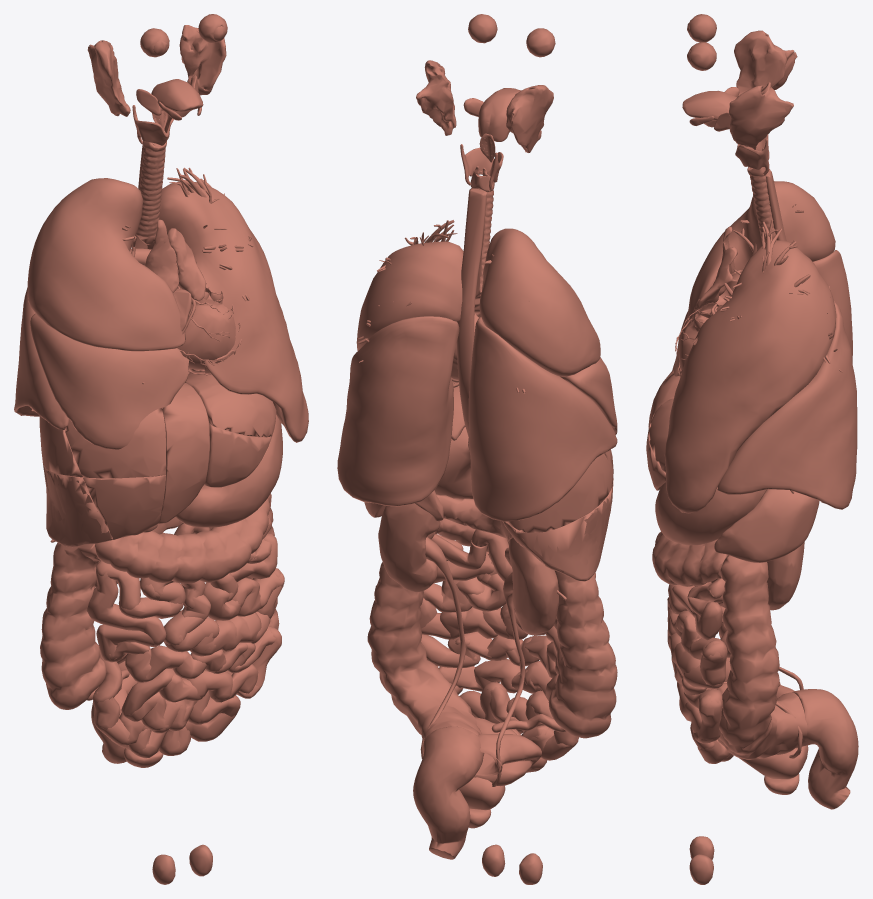
Rendered from organs.glb.
The picture shows the model from 3 angles, left to right: view 1: azimuth 30°, elevation 25°; view 2: azimuth 150°, elevation 25°; view 3: azimuth 270°, elevation 25°; orthographic projection.
Parts seen in each view (by area): view 1: liver, lung-upper-lobe-r, lung-upper-lobe-l, ileum, jejunum, lung-middle-lobe-r, ascending-colon, transverse-colon, stomach, heart, lung-lower-lobe-r, thymus (+12 smaller); view 2: lung-lower-lobe-r, lung-lower-lobe-l, lung-upper-lobe-r, ileum, descending-colon, ascending-colon, liver, lung-upper-lobe-l, jejunum, rectum, kidney-l, esophagus (+21 smaller); view 3: lung-upper-lobe-l, lung-lower-lobe-l, descending-colon, lung-upper-lobe-r, jejunum, rectum, spleen, stomach, ileum, transverse-colon, parotid-gland-l, parotid-gland-r (+16 smaller).
Boxes of the visible parts, bbox=[...] form: liver: bbox=[39, 371, 276, 547]; lung-upper-lobe-r: bbox=[27, 178, 185, 351]; lung-upper-lobe-l: bbox=[147, 181, 308, 442]; ileum: bbox=[93, 624, 281, 758]; jejunum: bbox=[87, 516, 284, 656]; lung-middle-lobe-r: bbox=[30, 313, 188, 449]; ascending-colon: bbox=[40, 543, 106, 709]; transverse-colon: bbox=[95, 494, 270, 583]; stomach: bbox=[175, 414, 282, 527]; heart: bbox=[144, 263, 241, 375]; lung-lower-lobe-r: bbox=[14, 287, 69, 429]; thymus: bbox=[145, 219, 206, 300]; lung-lower-lobe-r: bbox=[468, 316, 617, 521]; lung-lower-lobe-l: bbox=[337, 316, 459, 506]; lung-upper-lobe-r: bbox=[479, 228, 600, 376]; ileum: bbox=[421, 626, 578, 772]; descending-colon: bbox=[367, 532, 484, 755]; ascending-colon: bbox=[548, 570, 617, 738]; liver: bbox=[451, 381, 613, 581]; lung-upper-lobe-l: bbox=[356, 241, 463, 350]; jejunum: bbox=[419, 534, 557, 639]; rectum: bbox=[413, 726, 483, 859]; kidney-l: bbox=[378, 503, 440, 592]; esophagus: bbox=[456, 188, 487, 449]; lung-upper-lobe-l: bbox=[664, 240, 836, 513]; lung-lower-lobe-l: bbox=[716, 301, 857, 509]; descending-colon: bbox=[717, 555, 807, 759]; lung-upper-lobe-r: bbox=[687, 181, 835, 326]; jejunum: bbox=[667, 578, 727, 688]; rectum: bbox=[792, 689, 858, 809]; spleen: bbox=[714, 489, 819, 562]; stomach: bbox=[655, 482, 766, 545]; ileum: bbox=[671, 595, 733, 763]; transverse-colon: bbox=[652, 531, 728, 586]; parotid-gland-l: bbox=[729, 82, 793, 149]; parotid-gland-r: bbox=[734, 30, 797, 95].
Size of the model in its own units: 0.2577 by 0.8414 by 0.1911.
